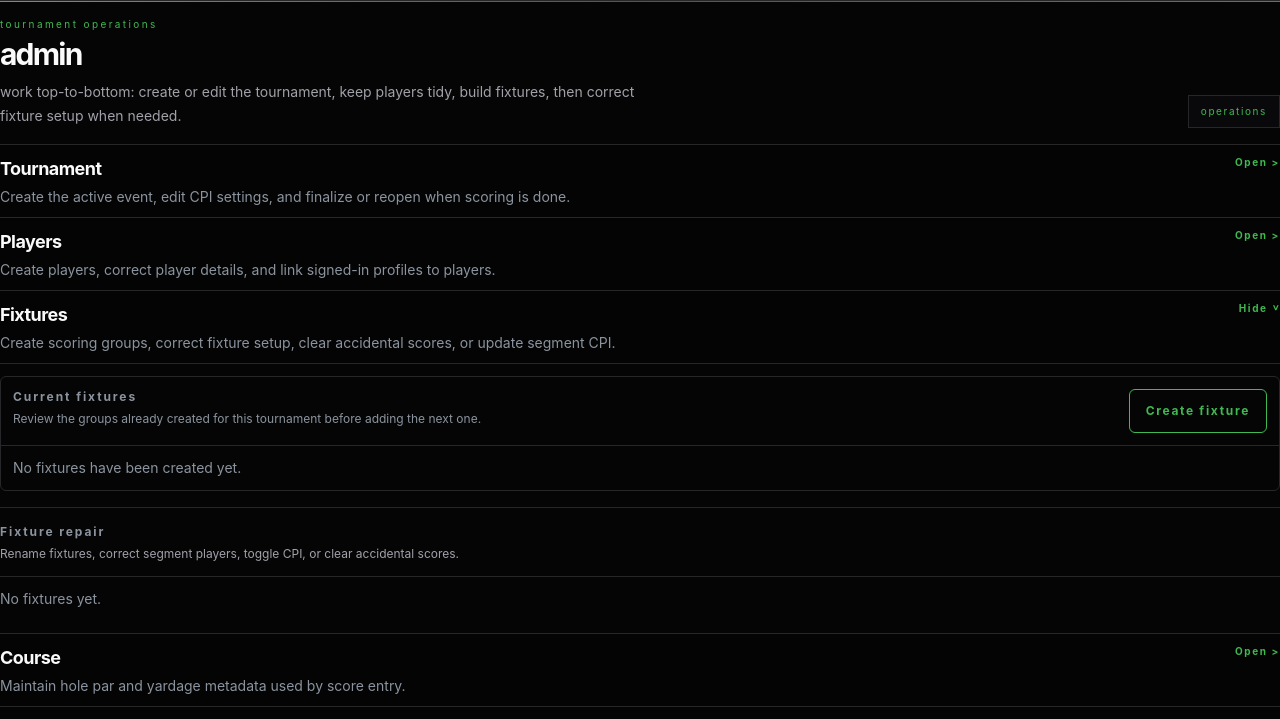
Test: 2026 admin setup panel › shows explicit fixture templates without auto-filling player slots
Expected: the text "No fixtures have been created yet." is shown, x1=1 y1=445 x2=1279 y2=490
Click the button "Create fixture" at coordinates (1198, 411), box x1=1129 y1=389 x2=1267 y2=433
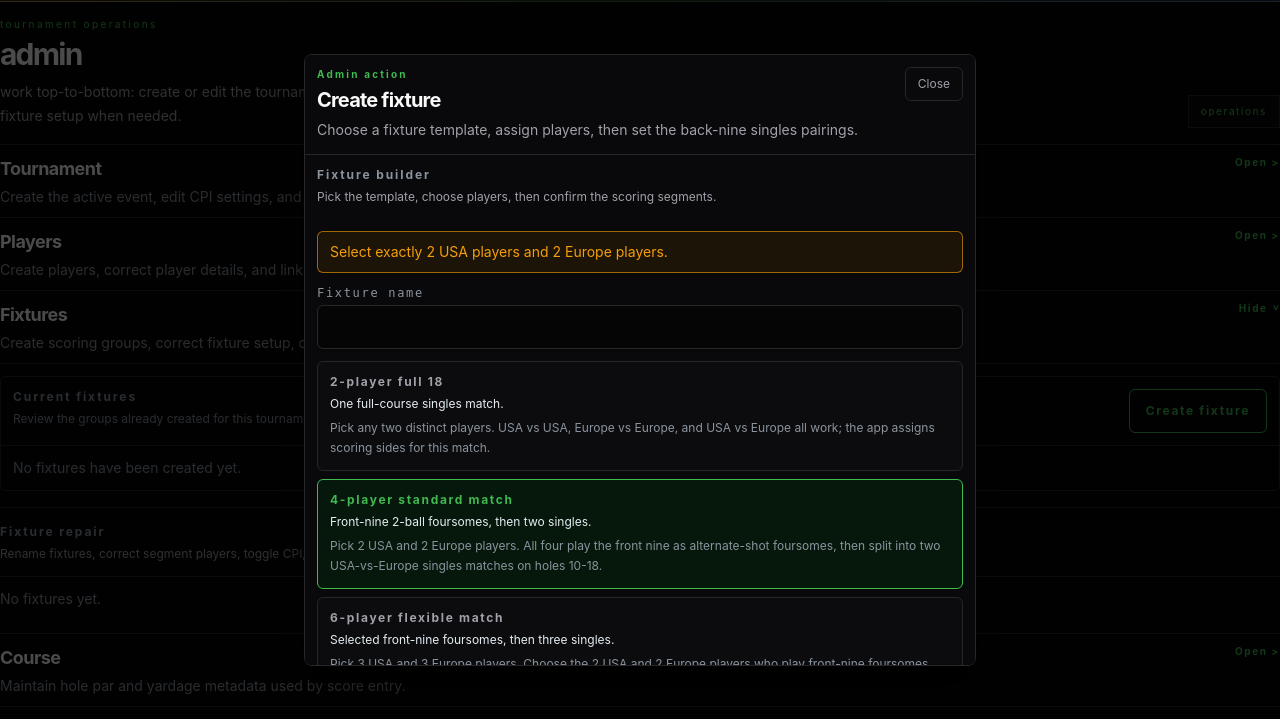
Now the text "2-player full 18" is shown, box x1=330 y1=374 x2=444 y2=389
Now the text "4-player standard match" is shown, box x1=330 y1=492 x2=514 y2=507
Now the text "6-player flexible match" is shown
Click the text "6-player flexible match" at coordinates (417, 618), box x1=330 y1=610 x2=504 y2=625
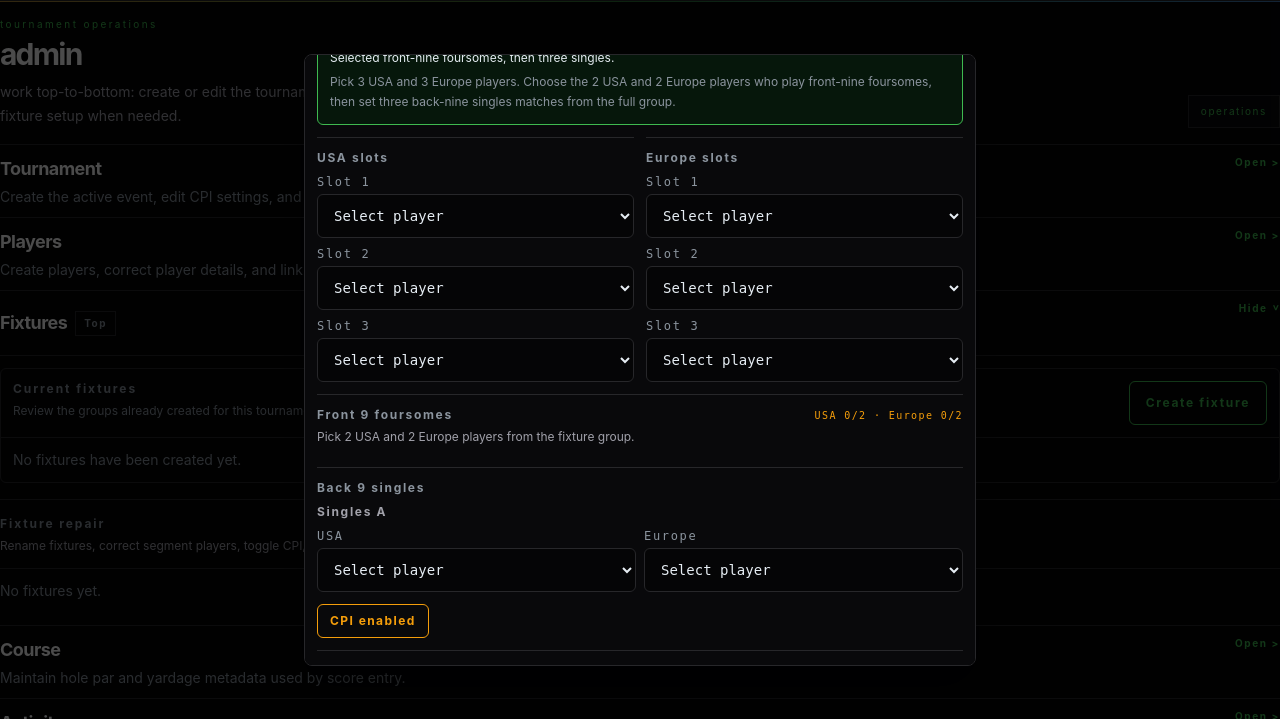
Now the number of dropdowns labelled "Slot 1" is 3, box x1=317 y1=194 x2=634 y2=238; x1=317 y1=266 x2=634 y2=310; x1=317 y1=338 x2=634 y2=382
Now the text "Front 9 foursomes" is shown, box x1=317 y1=407 x2=453 y2=422
Now the dropdown labelled "Slot 1" below "USA slots" shows "Select player", box x1=317 y1=194 x2=634 y2=238
